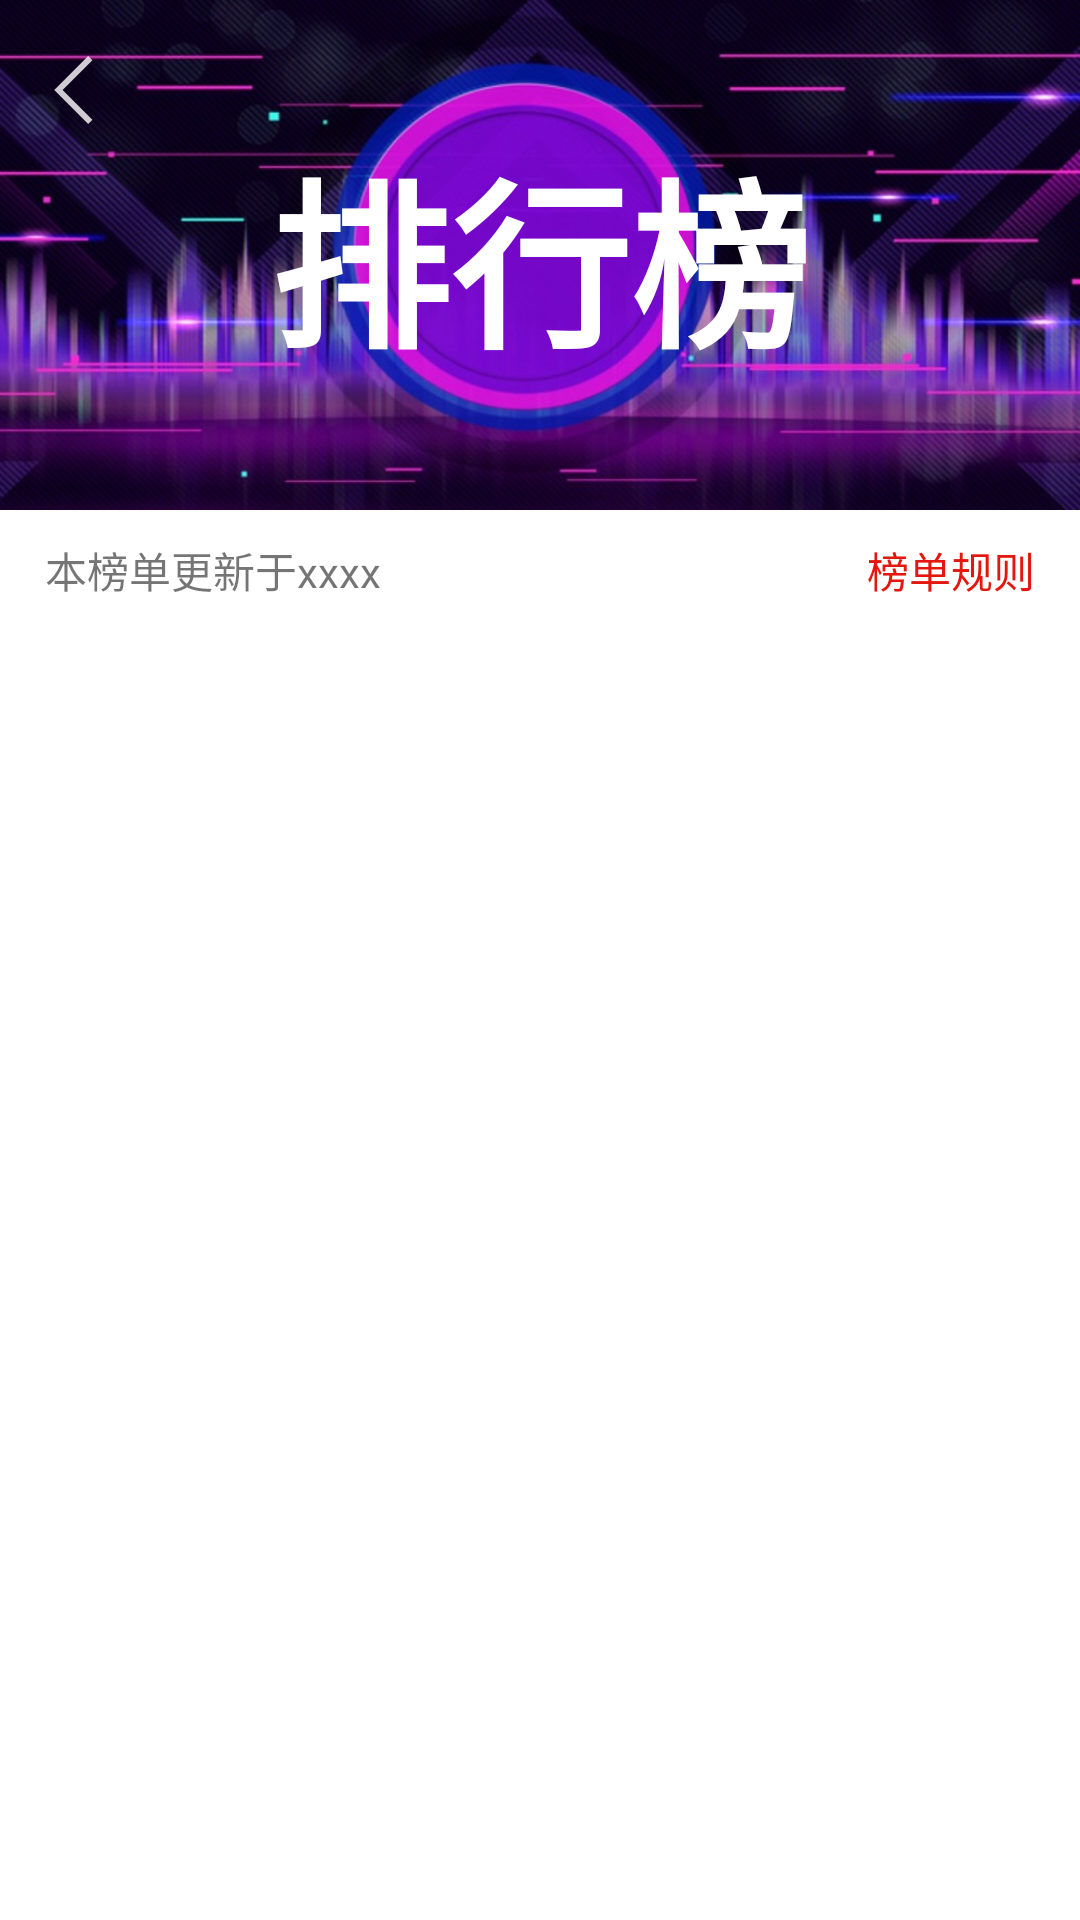

Named icons in this screenshot (1080 x 1920) and their centers, (x=x, y=y):
back: (x=75, y=94)
